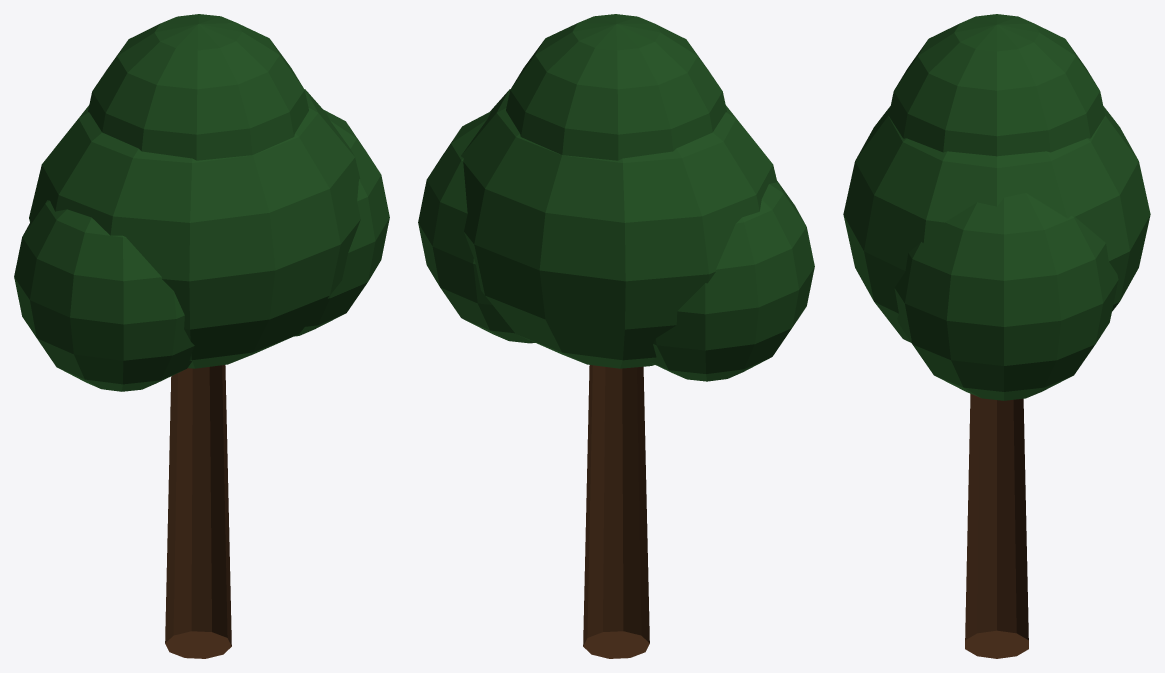
The model's file is Tree_Broadleaf.obj.
3 renders of one model, left to right at view 1: azimuth 30°, elevation 25°; view 2: azimuth 150°, elevation 25°; view 3: azimuth 270°, elevation 25°, orthographic.
Parts seen in each view (by area): view 1: Canopy, Trunk; view 2: Canopy, Trunk; view 3: Canopy, Trunk.
Part boxes in pixels (x1=…): Canopy: x1=14, y1=14, x2=389, y2=391; Trunk: x1=165, y1=365, x2=231, y2=658; Canopy: x1=418, y1=14, x2=814, y2=381; Trunk: x1=583, y1=365, x2=649, y2=658; Canopy: x1=843, y1=14, x2=1150, y2=400; Trunk: x1=965, y1=393, x2=1028, y2=658.
Bounding box in the file's own units: 2.93 × 4.9 × 2.2.
